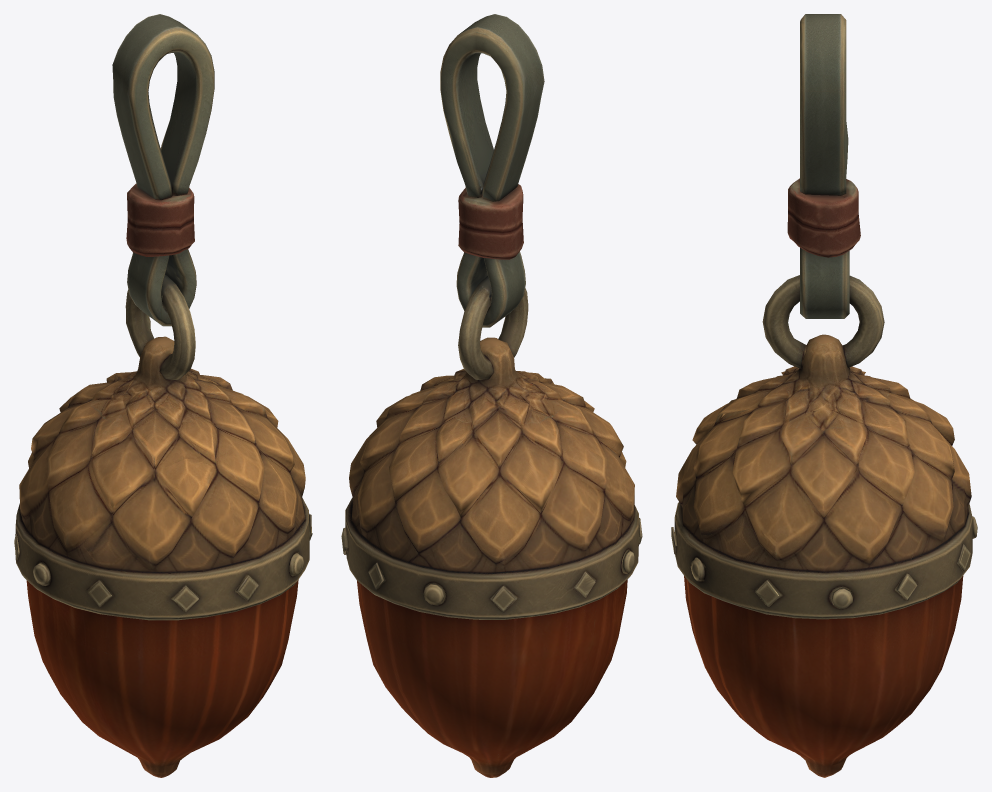
File: acorn-charm-i1_i23d.glb
3 views of the same model, side by side, from view 1: azimuth 30°, elevation 25°; view 2: azimuth 150°, elevation 25°; view 3: azimuth 270°, elevation 25° (orthographic).
Bounding box in the file's own units: 0.3491 × 0.9507 × 0.3472.
Materials: 1 (1 with a texture image).
